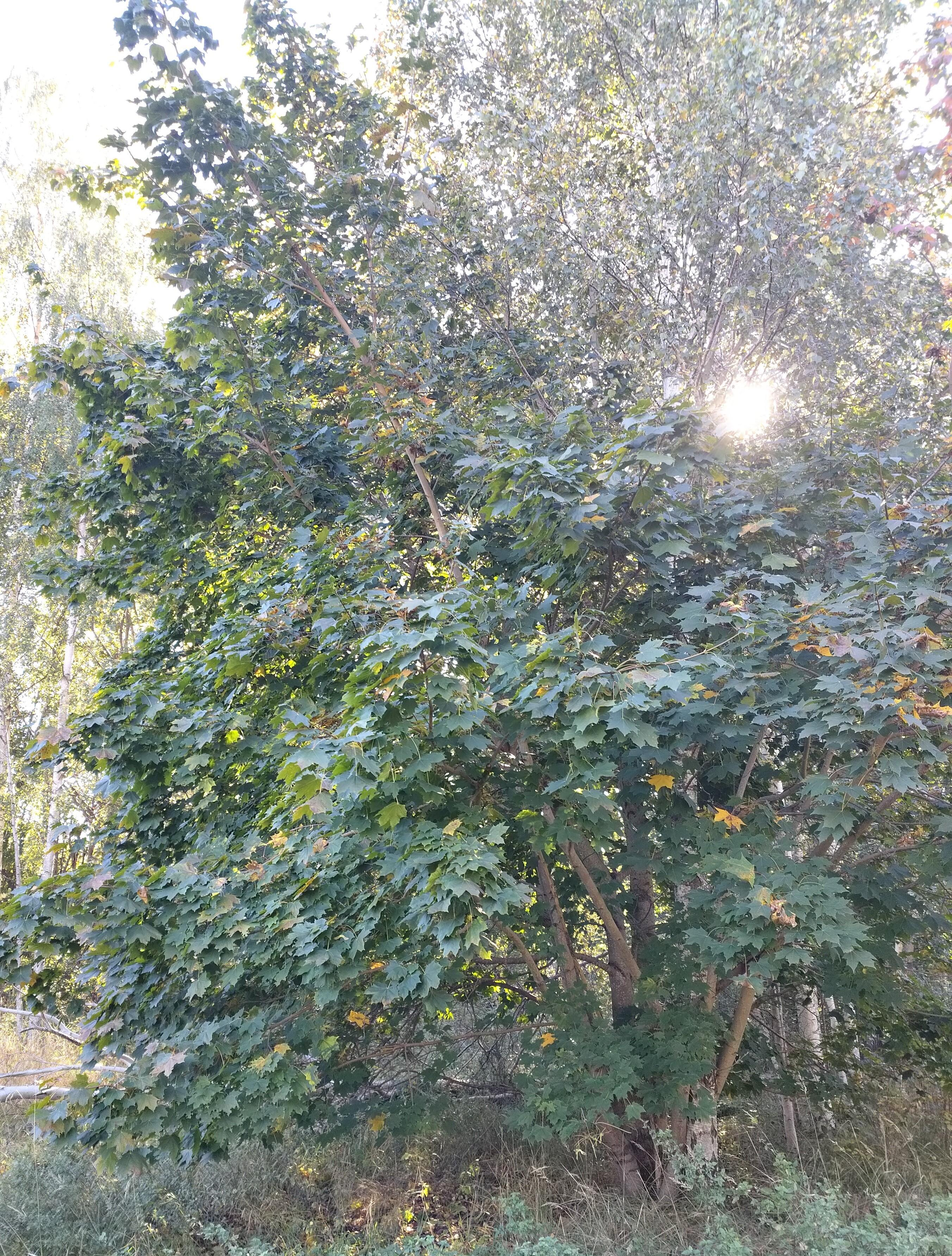Maple: (2, 0, 950, 1206)
